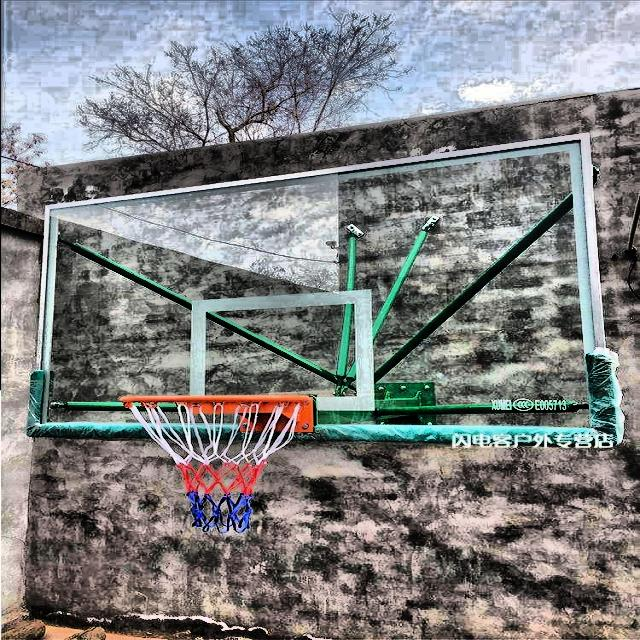rim: (118, 395, 310, 536)
